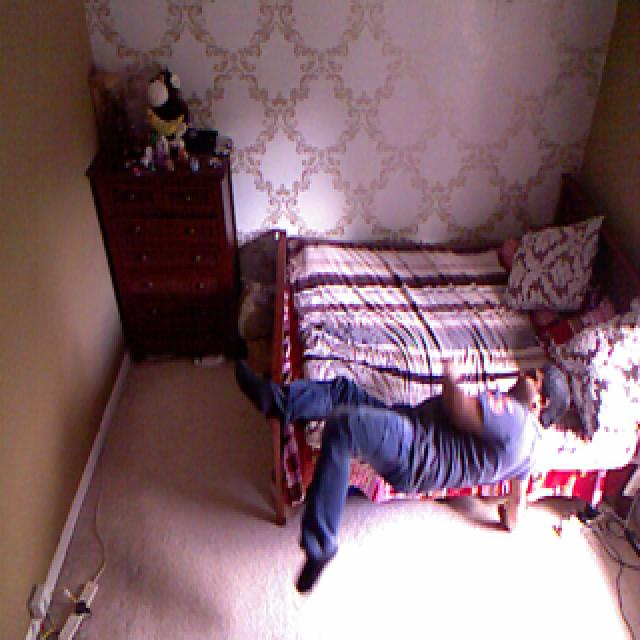lying: (210, 357, 580, 597)
